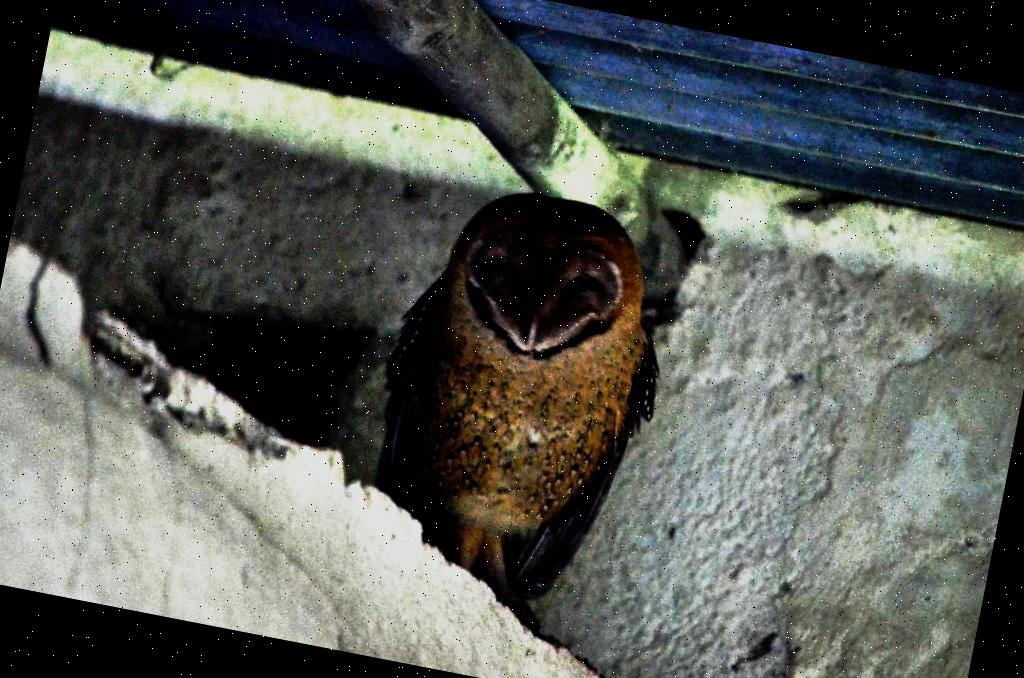Owl: (340, 169, 694, 646)
